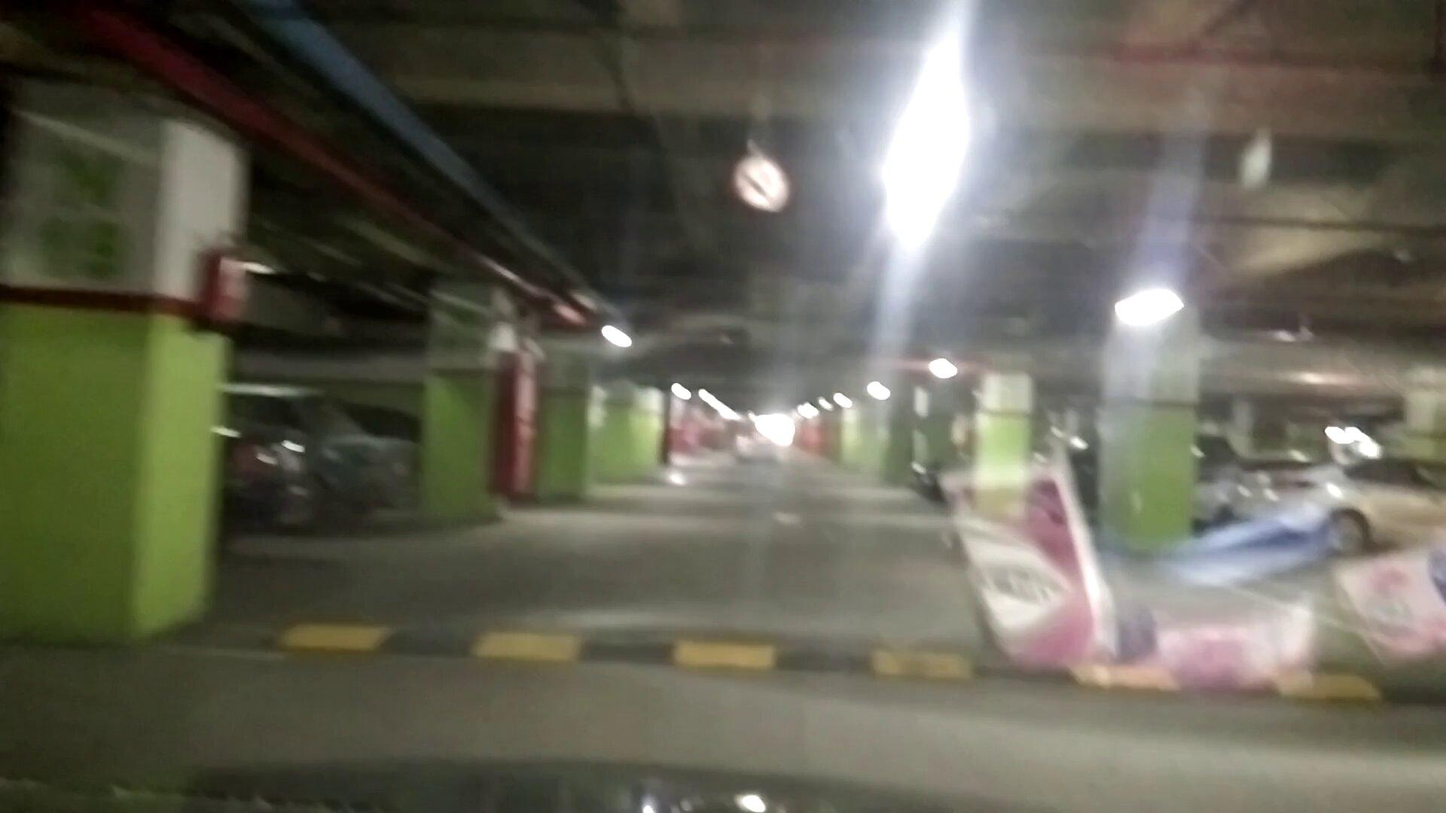Bump: (181, 593, 1446, 713)
